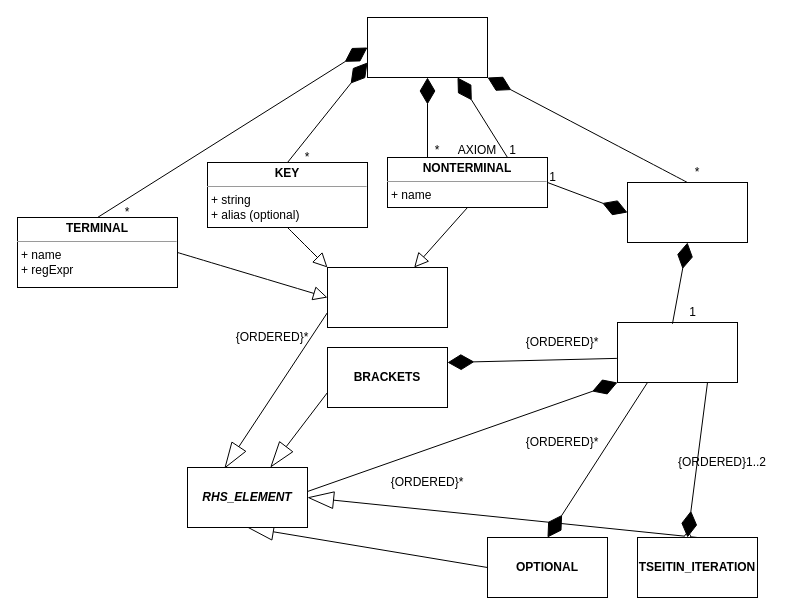
Some shapes in this 785 by 615 pixel diagram are drawn without their labels. Here are the shapes that lost their labels. From the top down, the box of each, then its label:
(366, 16, 488, 78): GRAMMAR
(626, 182, 748, 242): RULE
(326, 266, 448, 328): SYMBOLS
(616, 322, 738, 382): RHS
